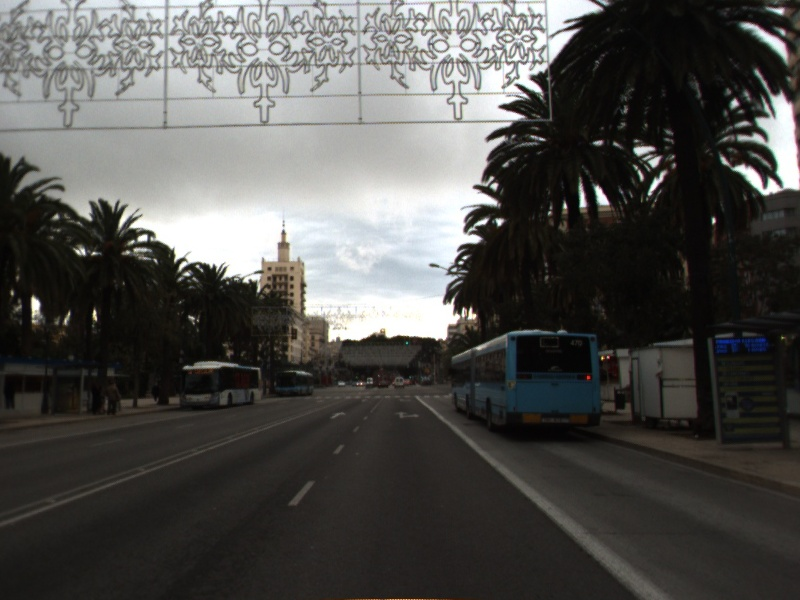STRAIGHT: (328, 410, 348, 421)
STRAIGHT_RIGHT: (392, 409, 421, 420)
